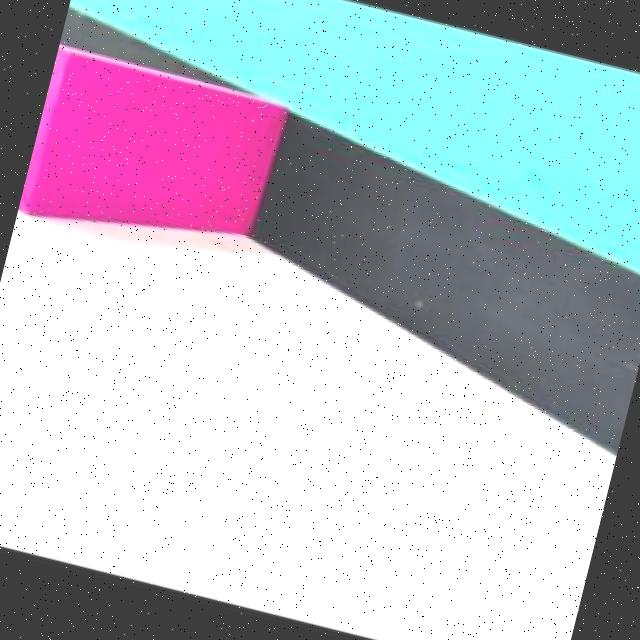xparking: (25, 51, 278, 265)
